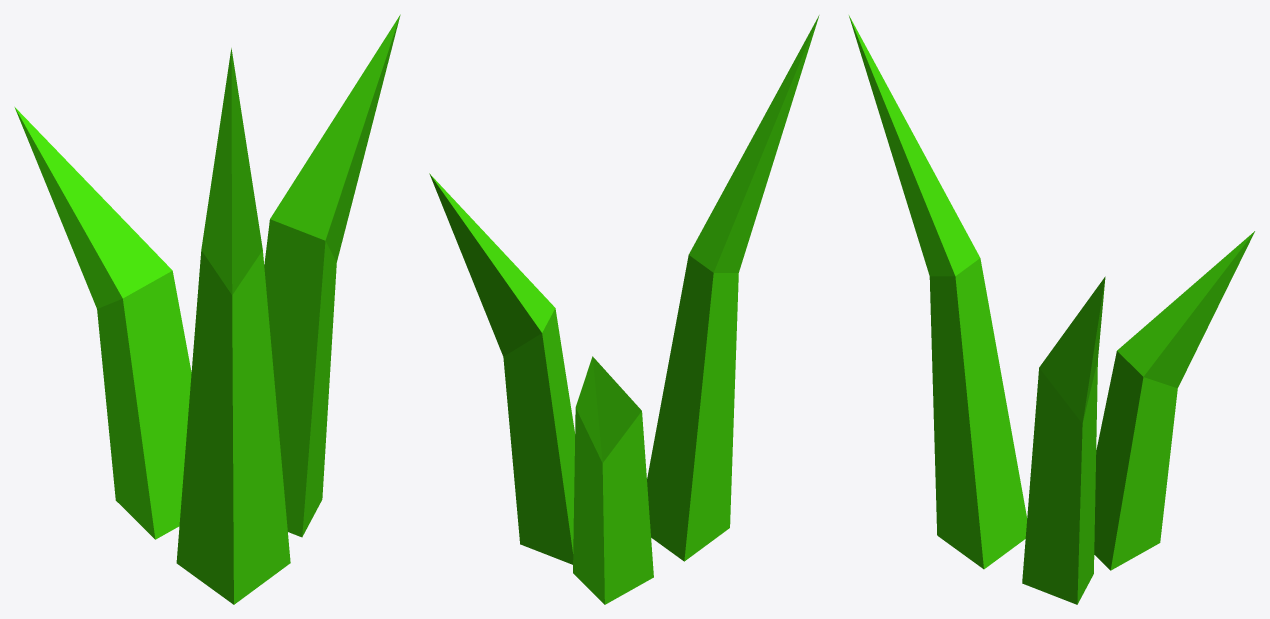
The model's file is LiveGrass2.fbx.
3 renders of one model, left to right at view 1: azimuth 30°, elevation 25°; view 2: azimuth 150°, elevation 25°; view 3: azimuth 270°, elevation 25°, orthographic. The views are drawn at different scales.
Parts seen in each view (by area): view 1: Circle.017; view 2: Circle.017; view 3: Circle.017.
Boxes of the visible parts, x1,y1,x2,y2 form: Circle.017: [14, 14, 400, 604]; Circle.017: [429, 15, 819, 604]; Circle.017: [849, 15, 1254, 604].
Size of the model in its own units: 88.52 by 158 by 117.
